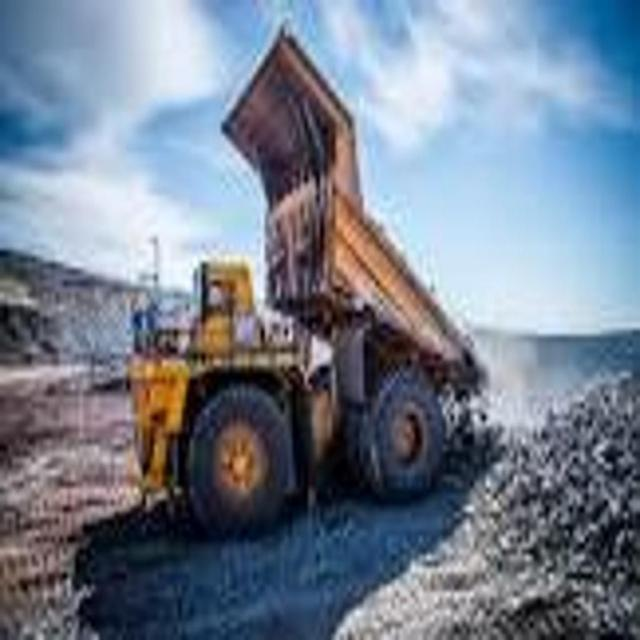dump_truck: (125, 19, 494, 542)
